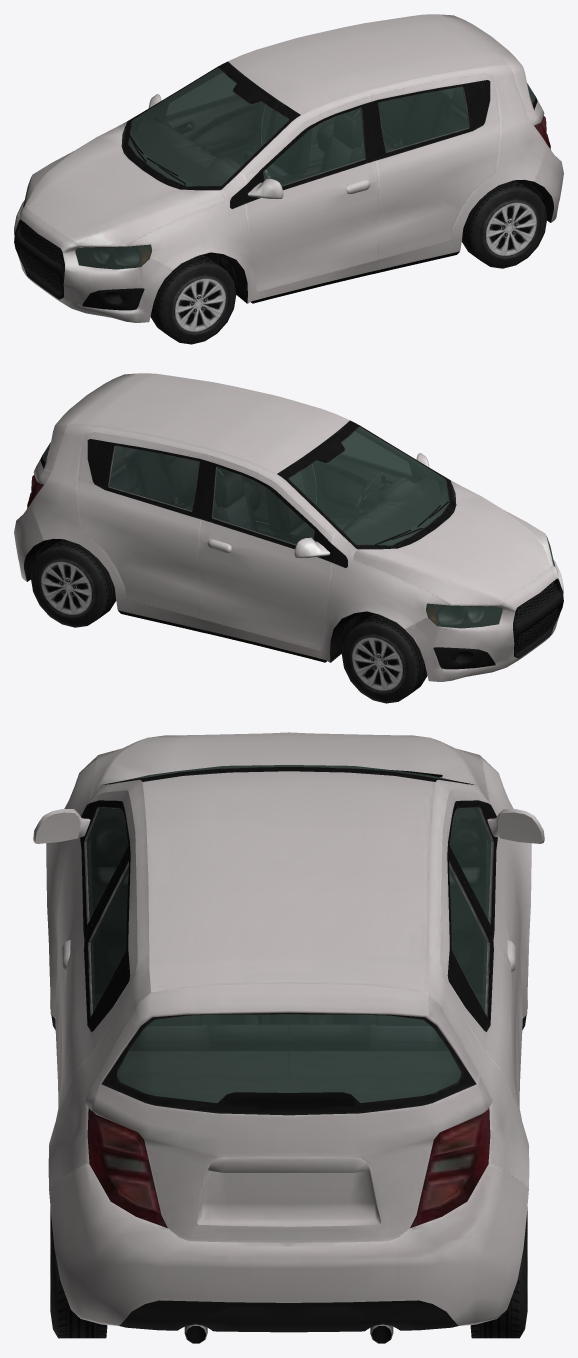
The model's file is car-hatch11-BOdq9FSX.glb.
The picture shows the model from 3 angles, top to bottom: view 1: azimuth 30°, elevation 25°; view 2: azimuth 150°, elevation 25°; view 3: azimuth 270°, elevation 25°; orthographic projection. The views are drawn at different scales.
Parts seen in each view (by area): view 1: body_MODERNHATCH_body_0, door_fl_MODERNHATCH_body_0, door_rl_MODERNHATCH_body_0, body_MODERNHATCH_INTERIOR_0, hood_MODERNHATCH_body_0, body_GLASS_0, bumper_front_MODERNHATCH_body_0, wheel_fl_MODERNHATCH_body_0, wheel_rl_MODERNHATCH_body_0, door_fr_MODERNHATCH_INTERIOR_0, door_fl_GLASS_0, door_rl_GLASS_0 (+6 smaller); view 2: body_MODERNHATCH_body_0, door_fr_MODERNHATCH_body_0, door_rr_MODERNHATCH_body_0, body_MODERNHATCH_INTERIOR_0, hood_MODERNHATCH_body_0, body_GLASS_0, bumper_front_MODERNHATCH_body_0, wheel_fr_MODERNHATCH_body_0, wheel_rr_MODERNHATCH_body_0, door_fr_GLASS_0, door_rr_GLASS_0, door_fl_MODERNHATCH_INTERIOR_0 (+6 smaller); view 3: body_MODERNHATCH_body_0, door_rear_MODERNHATCH_body_0, bumper_rear_MODERNHATCH_body_0, body_MODERNHATCH_INTERIOR_0, door_rear_GLASS_0, hood_MODERNHATCH_body_0, door_rr_MODERNHATCH_body_0, door_rl_MODERNHATCH_body_0, door_fr_MODERNHATCH_body_0, door_fl_MODERNHATCH_body_0, door_fr_GLASS_0, door_fl_GLASS_0 (+5 smaller).
Part boxes in pixels (x1,y1,x2,y2): body_MODERNHATCH_body_0: (118, 14, 553, 303); door_fl_MODERNHATCH_body_0: (245, 96, 378, 291); door_rl_MODERNHATCH_body_0: (368, 73, 500, 259); body_MODERNHATCH_INTERIOR_0: (128, 68, 535, 285); hood_MODERNHATCH_body_0: (24, 121, 224, 247); body_GLASS_0: (128, 68, 288, 186); bumper_front_MODERNHATCH_body_0: (14, 200, 172, 322); wheel_fl_MODERNHATCH_body_0: (150, 255, 236, 344); wheel_rl_MODERNHATCH_body_0: (461, 180, 547, 268); door_fr_MODERNHATCH_INTERIOR_0: (150, 70, 264, 159); door_fl_GLASS_0: (263, 108, 365, 185); door_rl_GLASS_0: (378, 86, 468, 151); body_MODERNHATCH_body_0: (24, 373, 459, 662); door_fr_MODERNHATCH_body_0: (199, 455, 332, 650); door_rr_MODERNHATCH_body_0: (77, 432, 209, 618); body_MODERNHATCH_INTERIOR_0: (42, 427, 449, 644); hood_MODERNHATCH_body_0: (353, 480, 553, 606); body_GLASS_0: (289, 427, 449, 545); bumper_front_MODERNHATCH_body_0: (405, 559, 563, 681); wheel_fr_MODERNHATCH_body_0: (341, 614, 427, 703); wheel_rr_MODERNHATCH_body_0: (30, 539, 116, 627); door_fr_GLASS_0: (212, 467, 314, 544); door_rr_GLASS_0: (109, 445, 199, 510); door_fl_MODERNHATCH_INTERIOR_0: (313, 429, 427, 518); body_MODERNHATCH_body_0: (46, 755, 531, 1343); door_rear_MODERNHATCH_body_0: (85, 983, 492, 1242); bumper_rear_MODERNHATCH_body_0: (49, 1164, 528, 1332); body_MODERNHATCH_INTERIOR_0: (91, 808, 486, 1102); door_rear_GLASS_0: (117, 1014, 460, 1103); hood_MODERNHATCH_body_0: (88, 732, 489, 802); door_rr_MODERNHATCH_body_0: (440, 838, 521, 1119); door_rl_MODERNHATCH_body_0: (56, 838, 137, 1119); door_fr_MODERNHATCH_body_0: (442, 790, 544, 1086); door_fl_MODERNHATCH_body_0: (33, 790, 135, 1086); door_fr_GLASS_0: (449, 807, 491, 919); door_fl_GLASS_0: (86, 807, 128, 919).
Bounding box in the file's own units: 151 × 56.72 × 67.71.
3 materials, 2 textured.
